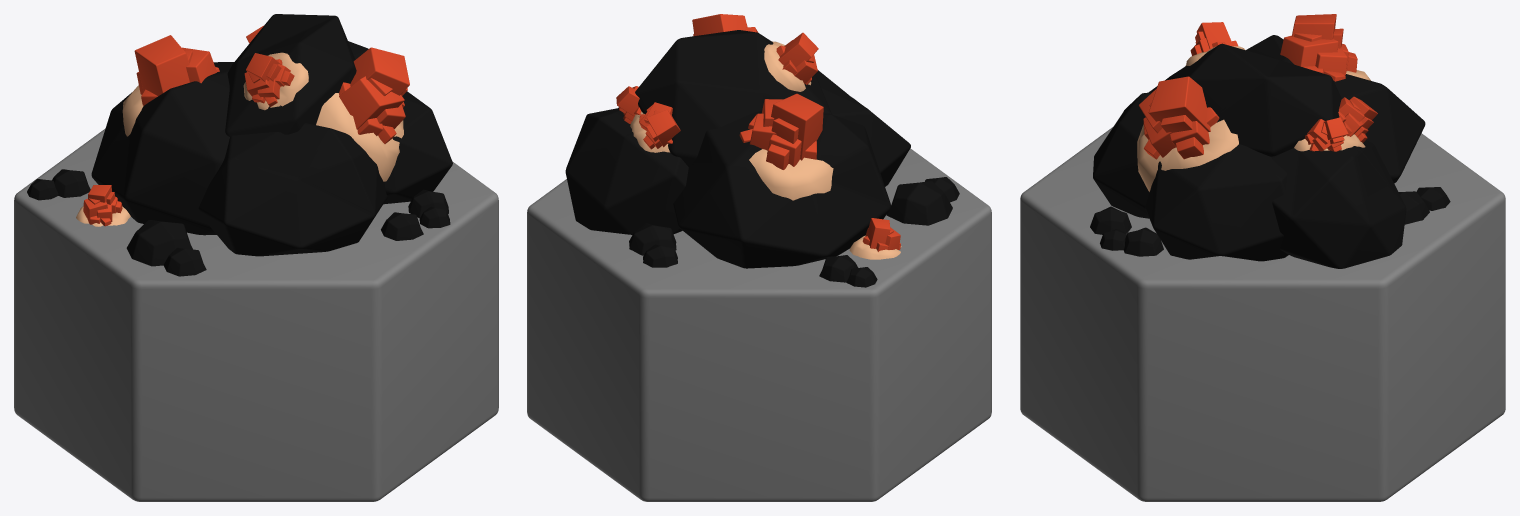
File: Environment_Ore.fbx
The picture shows the model from 3 angles, left to right: view 1: azimuth 30°, elevation 25°; view 2: azimuth 150°, elevation 25°; view 3: azimuth 270°, elevation 25°; orthographic projection. The views are drawn at different scales.
Visible parts, largest first — view 1: Cylinder030; view 2: Cylinder030; view 3: Cylinder030.
Part boxes in pixels (x1=…): Cylinder030: x1=14, y1=14, x2=498, y2=501; Cylinder030: x1=527, y1=14, x2=991, y2=501; Cylinder030: x1=1020, y1=14, x2=1505, y2=501.
Bounding box in the file's own units: 173 × 173 × 199.
